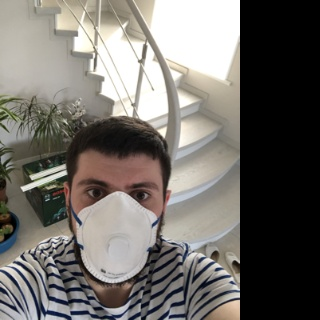with_mask: (73, 162, 164, 284)
